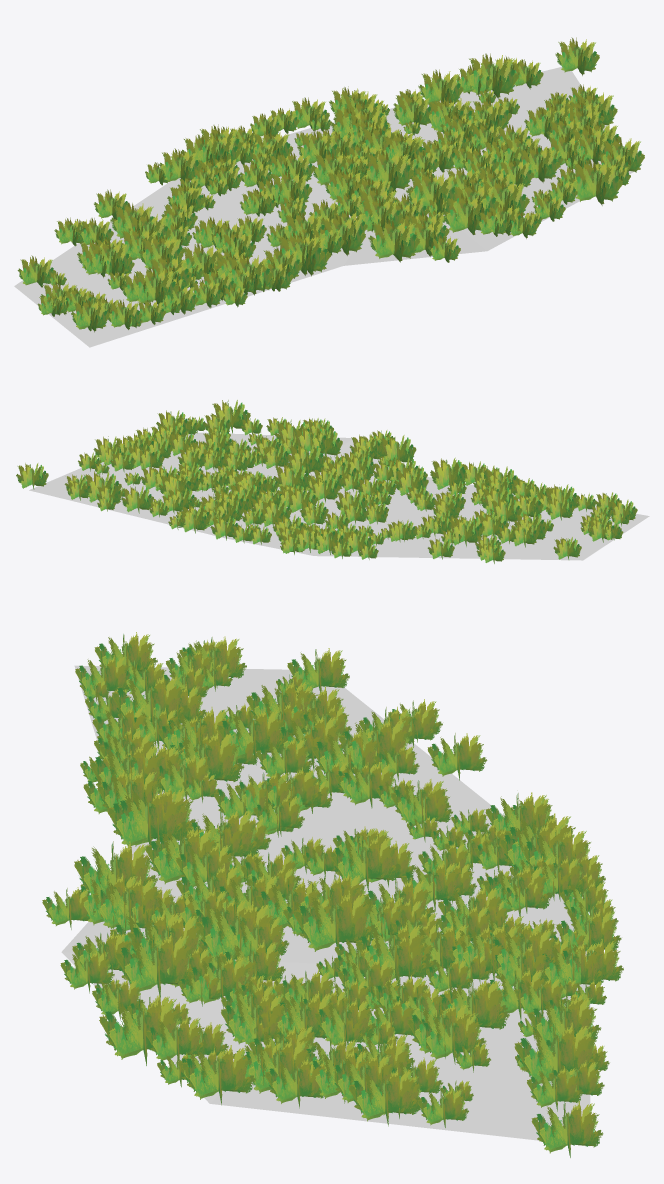
File: grass_dome.fbx
The picture shows the model from 3 angles, top to bottom: view 1: azimuth 30°, elevation 25°; view 2: azimuth 150°, elevation 25°; view 3: azimuth 270°, elevation 25°; orthographic projection. The views are drawn at different scales.
Visible parts, largest first — view 1: T_GRASSES002, T_GRASSES002|平面.012|Dupli|506, T_GRASSES002|平面.012|Dupli|549, T_GRASSES002|平面.012|Dupli|278, T_GRASSES002|平面.012|Dupli|451, T_GRASSES002|平面.012|Dupli|531, T_GRASSES002|平面.012|Dupli|466, T_GRASSES002|平面.012|Dupli|536, T_GRASSES002|平面.012|Dupli|325, T_GRASSES002|平面.012|Dupli|284, T_GRASSES002|平面.012|Dupli|418, T_GRASSES002|平面.012|Dupli|535 (+65 smaller); view 2: T_GRASSES002, T_GRASSES002|平面.012|Dupli|549, T_GRASSES002|平面.012|Dupli|506, T_GRASSES002|平面.012|Dupli|481, T_GRASSES002|平面.012|Dupli|451, T_GRASSES002|平面.012|Dupli|531, T_GRASSES002|平面.012|Dupli|278, T_GRASSES002|平面.012|Dupli|284, T_GRASSES002|平面.012|Dupli|403, T_GRASSES002|平面.012|Dupli|325, T_GRASSES002|平面.012|Dupli|452, T_GRASSES002|平面.012|Dupli|537 (+61 smaller); view 3: T_GRASSES002, T_GRASSES002|平面.012|Dupli|451, T_GRASSES002|平面.012|Dupli|535, T_GRASSES002|平面.012|Dupli|278, T_GRASSES002|平面.012|Dupli|506, T_GRASSES002|平面.012|Dupli|428, T_GRASSES002|平面.012|Dupli|505, T_GRASSES002|平面.012|Dupli|549, T_GRASSES002|平面.012|Dupli|296, T_GRASSES002|平面.012|Dupli|325, T_GRASSES002|平面.012|Dupli|387, T_GRASSES002|平面.012|Dupli|531 (+89 smaller).
Boxes of the visible parts, x1,y1,x2,y2 form: T_GRASSES002: (14, 67, 633, 347); T_GRASSES002|平面.012|Dupli|506: (569, 159, 622, 205); T_GRASSES002|平面.012|Dupli|549: (368, 218, 419, 262); T_GRASSES002|平面.012|Dupli|278: (466, 53, 518, 98); T_GRASSES002|平面.012|Dupli|451: (362, 149, 413, 191); T_GRASSES002|平面.012|Dupli|531: (406, 170, 456, 214); T_GRASSES002|平面.012|Dupli|466: (131, 266, 178, 305); T_GRASSES002|平面.012|Dupli|536: (442, 193, 491, 234); T_GRASSES002|平面.012|Dupli|325: (555, 37, 599, 75); T_GRASSES002|平面.012|Dupli|284: (418, 69, 463, 104); T_GRASSES002|平面.012|Dupli|418: (320, 214, 365, 255); T_GRASSES002|平面.012|Dupli|535: (481, 178, 529, 215); T_GRASSES002: (29, 432, 649, 560); T_GRASSES002|平面.012|Dupli|549: (379, 435, 416, 465); T_GRASSES002|平面.012|Dupli|506: (210, 400, 250, 433); T_GRASSES002|平面.012|Dupli|481: (430, 459, 466, 490); T_GRASSES002|平面.012|Dupli|451: (274, 463, 311, 491); T_GRASSES002|平面.012|Dupli|531: (288, 443, 326, 474); T_GRASSES002|平面.012|Dupli|278: (84, 471, 121, 502); T_GRASSES002|平面.012|Dupli|284: (121, 486, 153, 513); T_GRASSES002|平面.012|Dupli|403: (448, 518, 481, 546); T_GRASSES002|平面.012|Dupli|325: (16, 463, 48, 489); T_GRASSES002|平面.012|Dupli|452: (394, 468, 428, 495); T_GRASSES002|平面.012|Dupli|537: (292, 426, 328, 453); T_GRASSES002: (61, 665, 590, 1146); T_GRASSES002|平面.012|Dupli|451: (293, 889, 378, 951); T_GRASSES002|平面.012|Dupli|535: (115, 932, 199, 998); T_GRASSES002|平面.012|Dupli|278: (514, 1020, 601, 1083); T_GRASSES002|平面.012|Dupli|506: (99, 995, 182, 1065); T_GRASSES002|平面.012|Dupli|428: (107, 787, 189, 847); T_GRASSES002|平面.012|Dupli|505: (181, 1044, 255, 1105); T_GRASSES002|平面.012|Dupli|549: (74, 841, 158, 897); T_GRASSES002|平面.012|Dupli|296: (348, 1067, 419, 1126); T_GRASSES002|平面.012|Dupli|325: (531, 1100, 603, 1157); T_GRASSES002|平面.012|Dupli|387: (330, 835, 401, 890); T_GRASSES002|平面.012|Dupli|531: (195, 901, 282, 960).
Size of the model in its own units: 2185 by 198 by 1071.
1 material, 1 textured.
